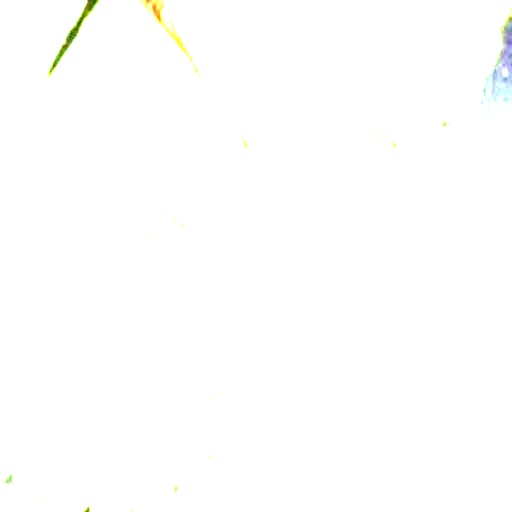Angular Leafspot: (0, 0, 272, 511), (139, 0, 511, 170)
